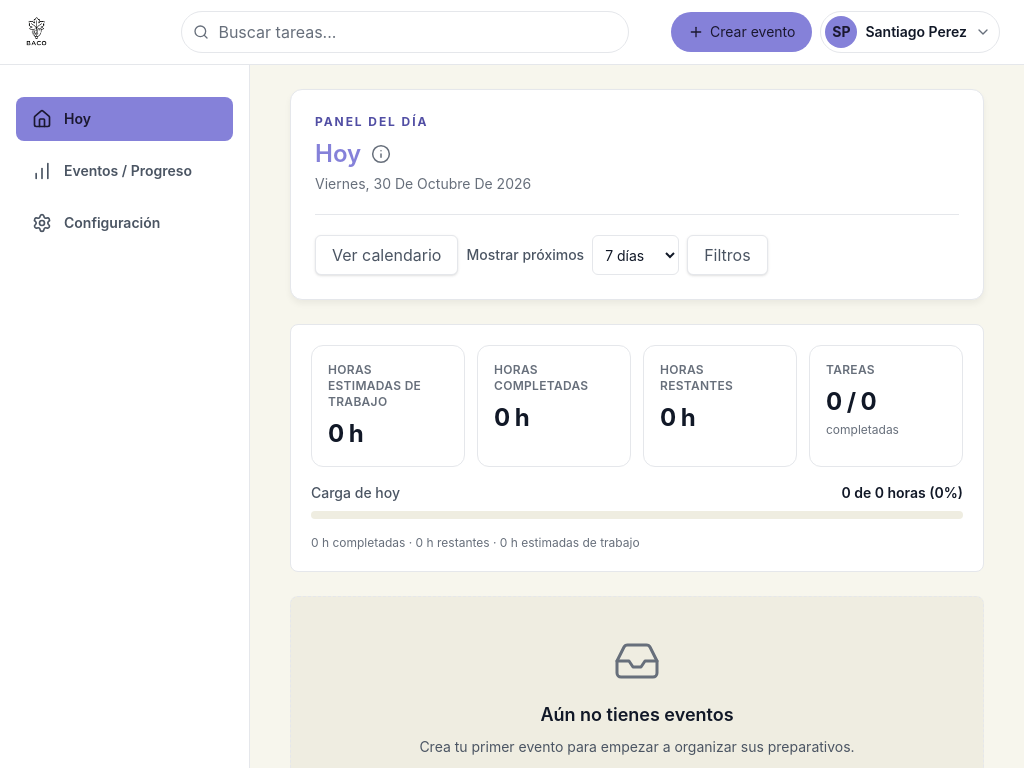
Test case: shell de la aplicación › el menú de perfil abre con el nombre real y la acción de salir
The width and height of the screenshot is (1024, 768).
Click the button "SP Santiago Perez" at (910, 32), box [820,11,1000,53]
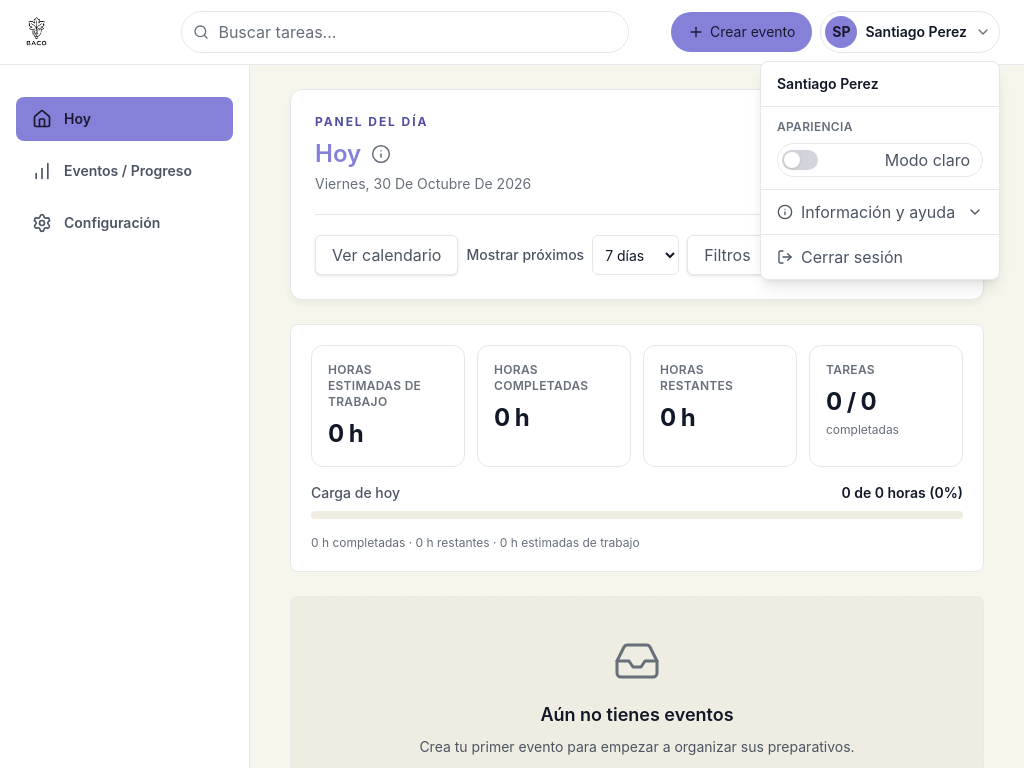
Check: the menu is shown, box [760,61,1000,280]
Check: the menu shows "Cerrar sesión", box [761,235,999,279]
Check: the menu item "Información y ayuda" is shown, box [761,190,999,234]
